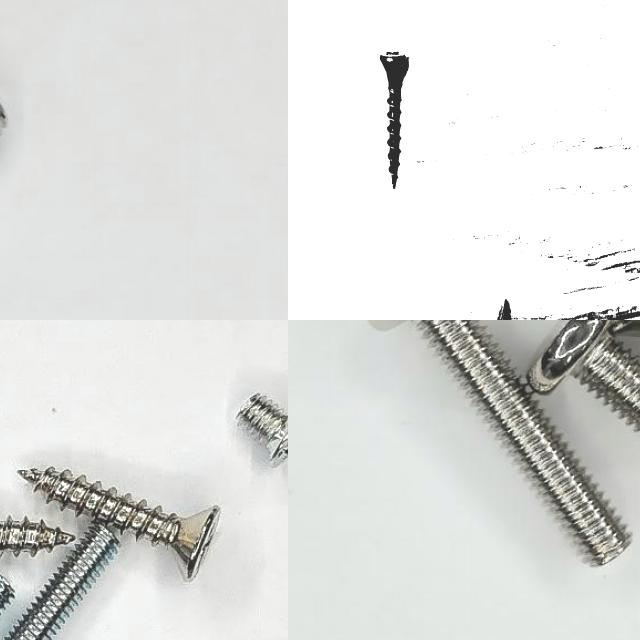Screw: (418, 320, 629, 566), (17, 467, 220, 580), (4, 523, 118, 640), (528, 320, 640, 430), (379, 50, 409, 187), (237, 392, 288, 465), (0, 518, 75, 555)
